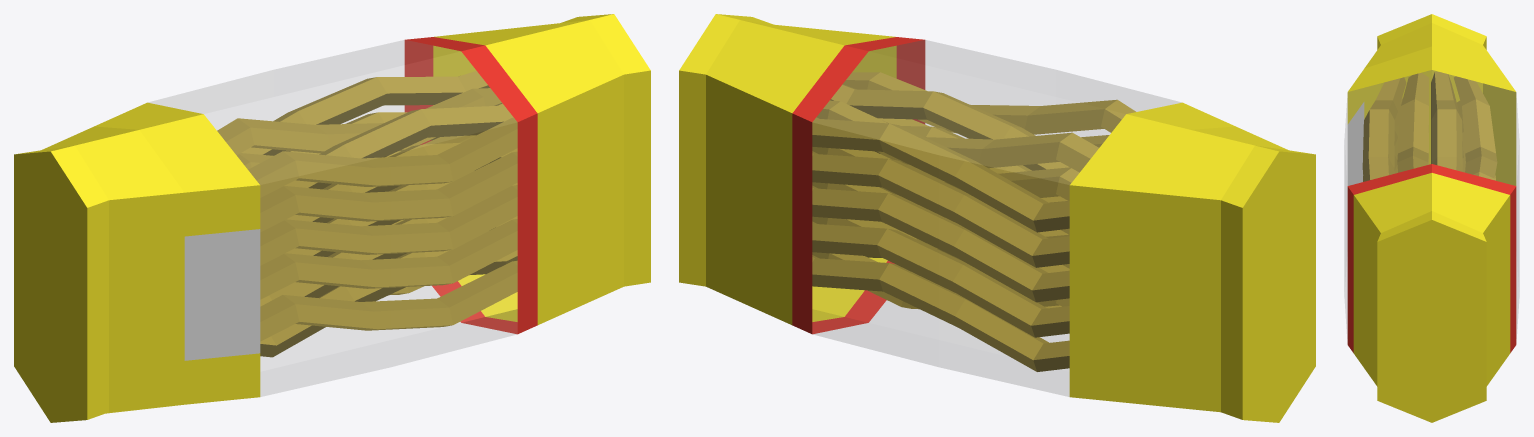
File: Egg Noodles.fbx
3 views of the same model, side by side, from view 1: azimuth 30°, elevation 25°; view 2: azimuth 150°, elevation 25°; view 3: azimuth 270°, elevation 25° (orthographic). The views are drawn at different scales.
Parts seen in each view (by area): view 1: Egg Noodles; view 2: Egg Noodles; view 3: Egg Noodles.
Part boxes in pixels (x1,y1,x2,y2): Egg Noodles: (14,14,650,422); Egg Noodles: (679,14,1315,422); Egg Noodles: (1344,14,1519,422).
Size of the model in its own units: 73.67 by 33.91 by 26.49.
